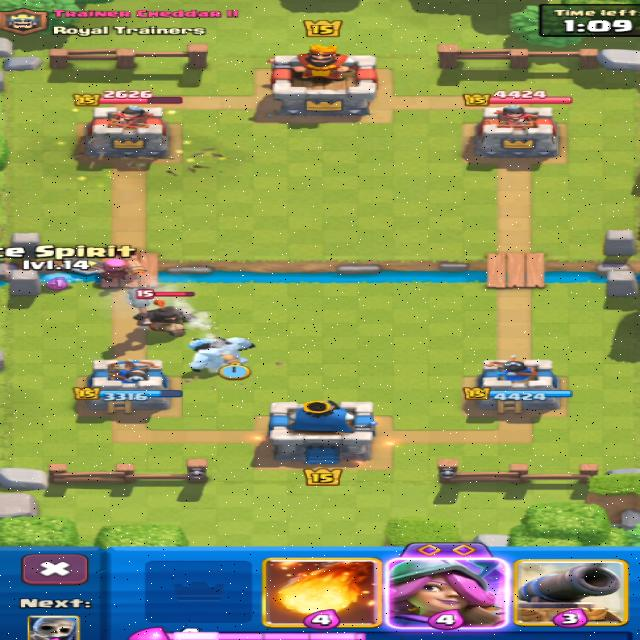Enemy-DarkPrince-Charge: (126, 288, 195, 336)
Enemy-Firecracker: (92, 258, 145, 287)
Enemy-KingTower: (271, 44, 377, 115)
Enemy-PrincessTower: (78, 105, 170, 167), (475, 105, 557, 162)
Player-IceGolem: (188, 337, 254, 373)
Player-KingTower: (269, 400, 377, 465)
Player-PrincessTower: (464, 356, 572, 414), (74, 360, 180, 413)
